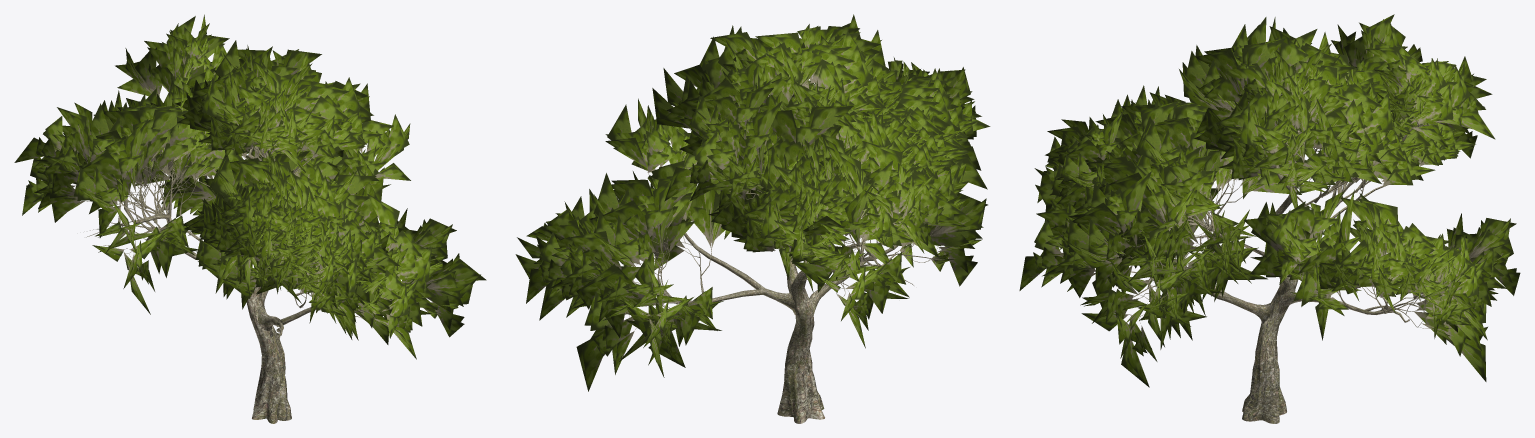
File: oak7.obj
3 views of the same model, side by side, from view 1: azimuth 30°, elevation 25°; view 2: azimuth 150°, elevation 25°; view 3: azimuth 270°, elevation 25° (orthographic). The views are drawn at different scales.
Parts seen in each view (by area): view 1: oak leaf, mossybark03; view 2: oak leaf, mossybark03; view 3: oak leaf, mossybark03.
Boxes of the visible parts, x1,y1,x2,y2 form: oak leaf: (14, 14, 486, 359); mossybark03: (75, 65, 391, 423); oak leaf: (515, 14, 990, 391); mossybark03: (626, 74, 947, 423); oak leaf: (1019, 14, 1520, 387); mossybark03: (1062, 79, 1470, 423).
Bounding box in the file's own units: 923 × 886 × 1059.
Materials: 2 (2 with a texture image).
